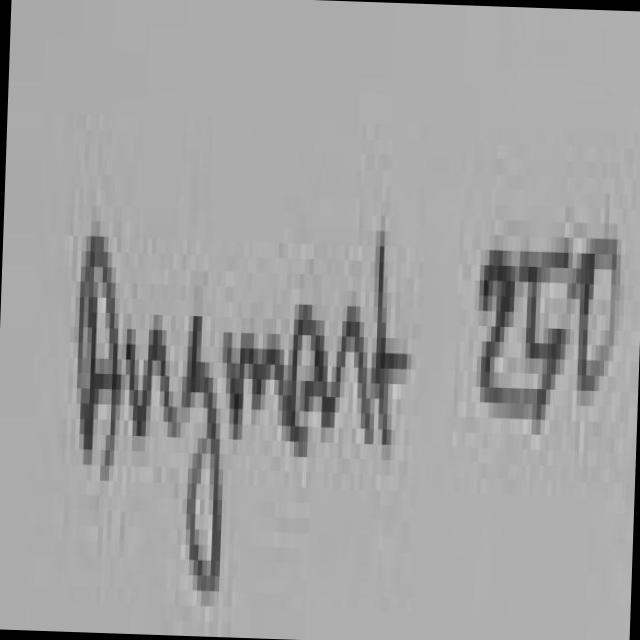0: (572, 202, 626, 458)
2: (459, 206, 524, 438)
5: (516, 211, 576, 442)
A: (54, 192, 132, 496)
e: (280, 290, 323, 482)
g: (162, 286, 230, 628)
m: (210, 287, 290, 444)
n: (310, 282, 376, 468)
t: (358, 203, 414, 478)
u: (110, 284, 184, 486)
